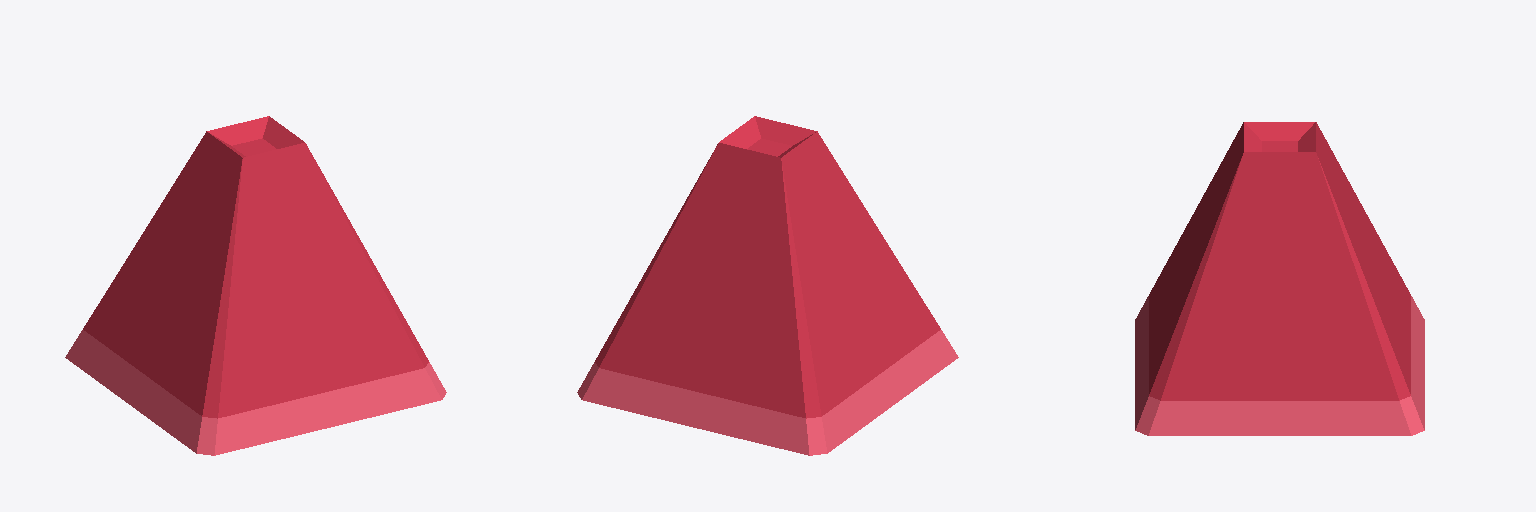
File: roofHighPoint.obj
The picture shows the model from 3 angles: view 1: azimuth 30°, elevation 25°; view 2: azimuth 150°, elevation 25°; view 3: azimuth 270°, elevation 25°; orthographic projection.
Parts seen in each view (by area): view 1: roofHighPoint; view 2: roofHighPoint; view 3: roofHighPoint.
Boxes of the visible parts, x1=… form: roofHighPoint: x1=65, y1=116, x2=446, y2=455; roofHighPoint: x1=577, y1=116, x2=958, y2=455; roofHighPoint: x1=1135, y1=122, x2=1424, y2=435.
Size of the model in its own units: 1.1 by 1 by 1.1.